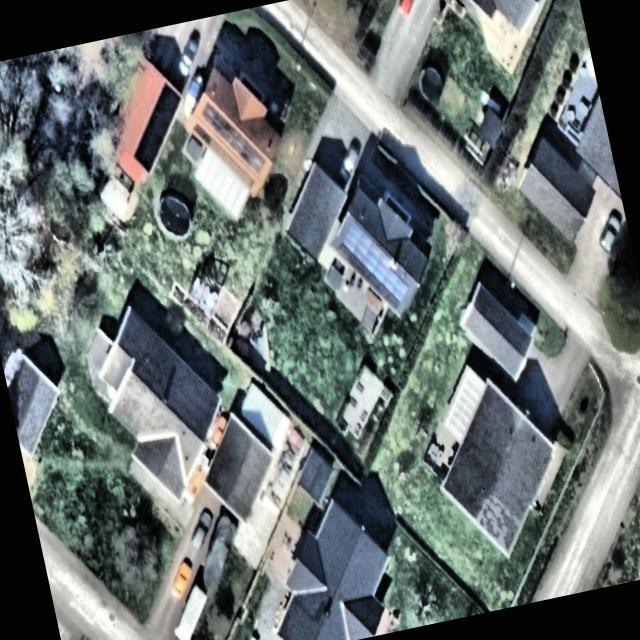roof_pv: (361, 226, 399, 310), (124, 116, 160, 178), (338, 218, 370, 281), (157, 76, 188, 133), (144, 92, 171, 152), (394, 270, 411, 306)
